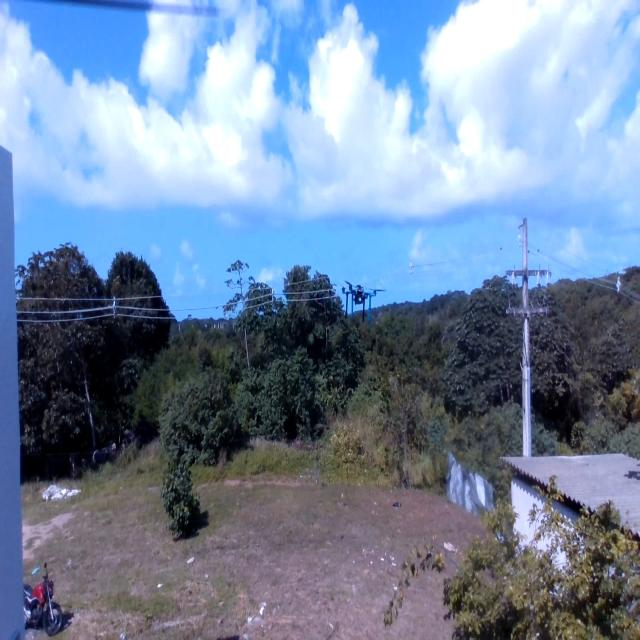-uav-: (335, 277, 386, 336)
